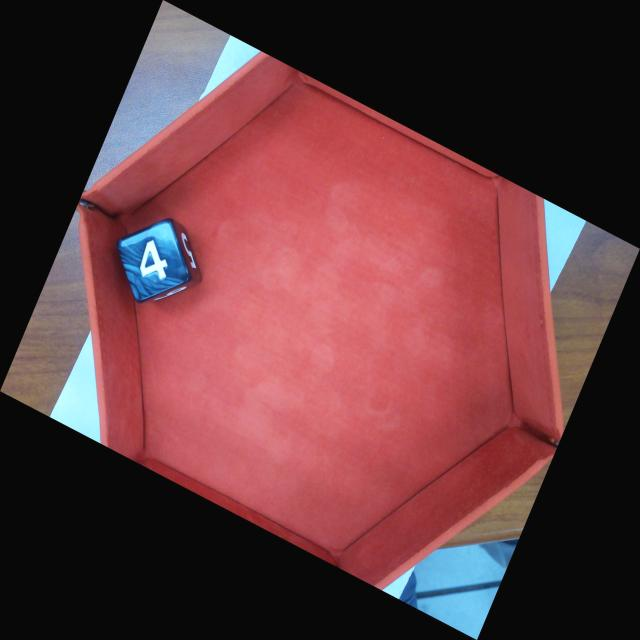dice: (122, 222, 192, 303)
